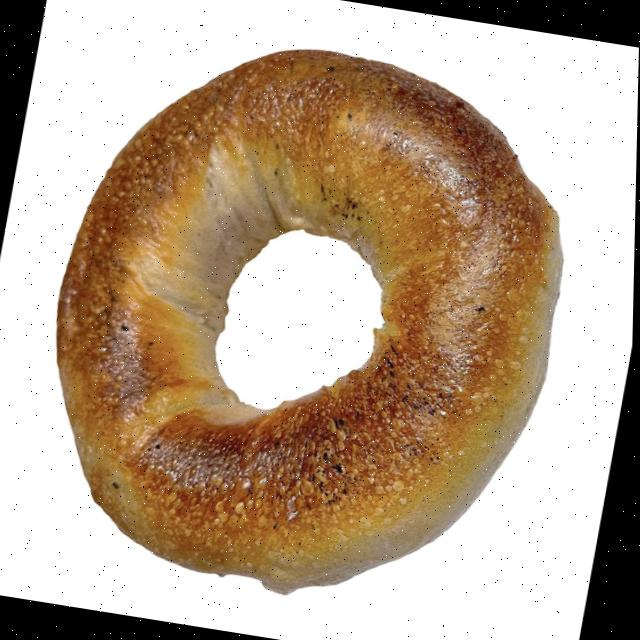Bagel: (60, 50, 563, 593)
